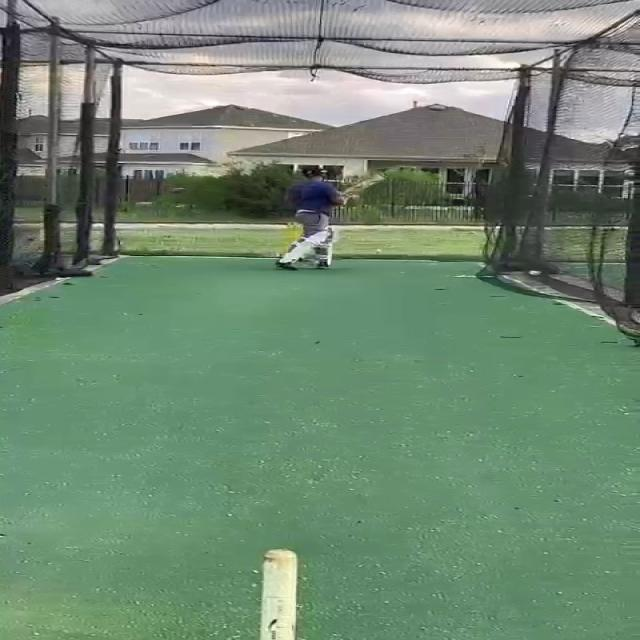batsman: (272, 165, 390, 272)
